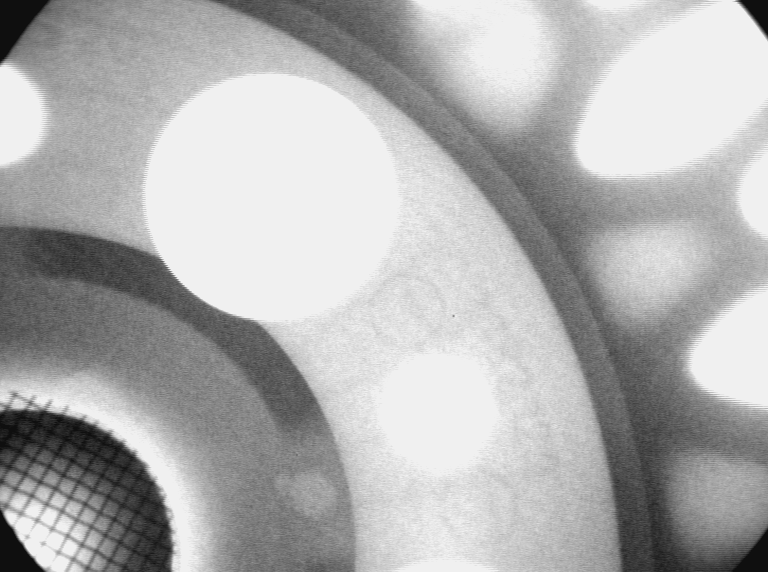defect: (274, 467, 342, 523)
